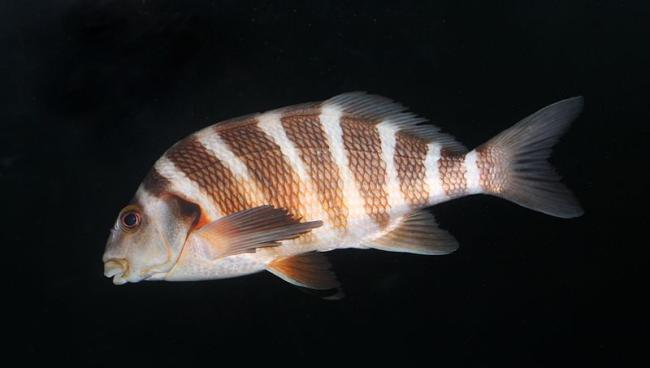fish: (103, 92, 587, 287)
